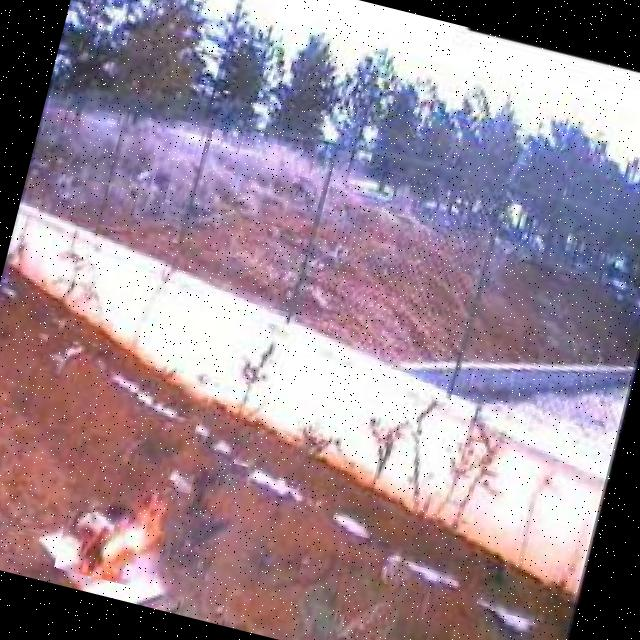fire: (54, 457, 178, 591)
